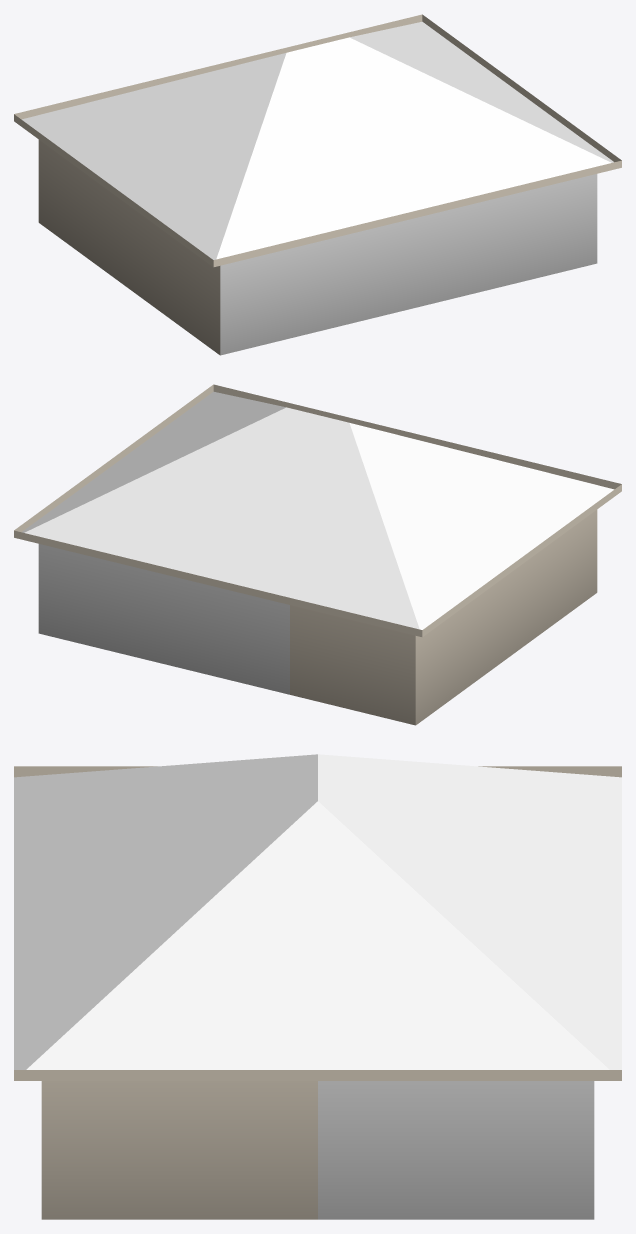
The model's file is HouseB_Beige.fbx.
3 views of the same model, one above another, from view 1: azimuth 30°, elevation 25°; view 2: azimuth 150°, elevation 25°; view 3: azimuth 270°, elevation 25° (orthographic). The views are drawn at different scales.
Parts seen in each view (by area): view 1: HouseB_Beige; view 2: HouseB_Beige; view 3: HouseB_Beige.
Boxes of the visible parts, x1,y1,x2,y2 form: HouseB_Beige: (14,14,621,355); HouseB_Beige: (14,384,621,725); HouseB_Beige: (14,754,621,1219).
Bounding box in the file's own units: 13 × 6.03 × 11.
